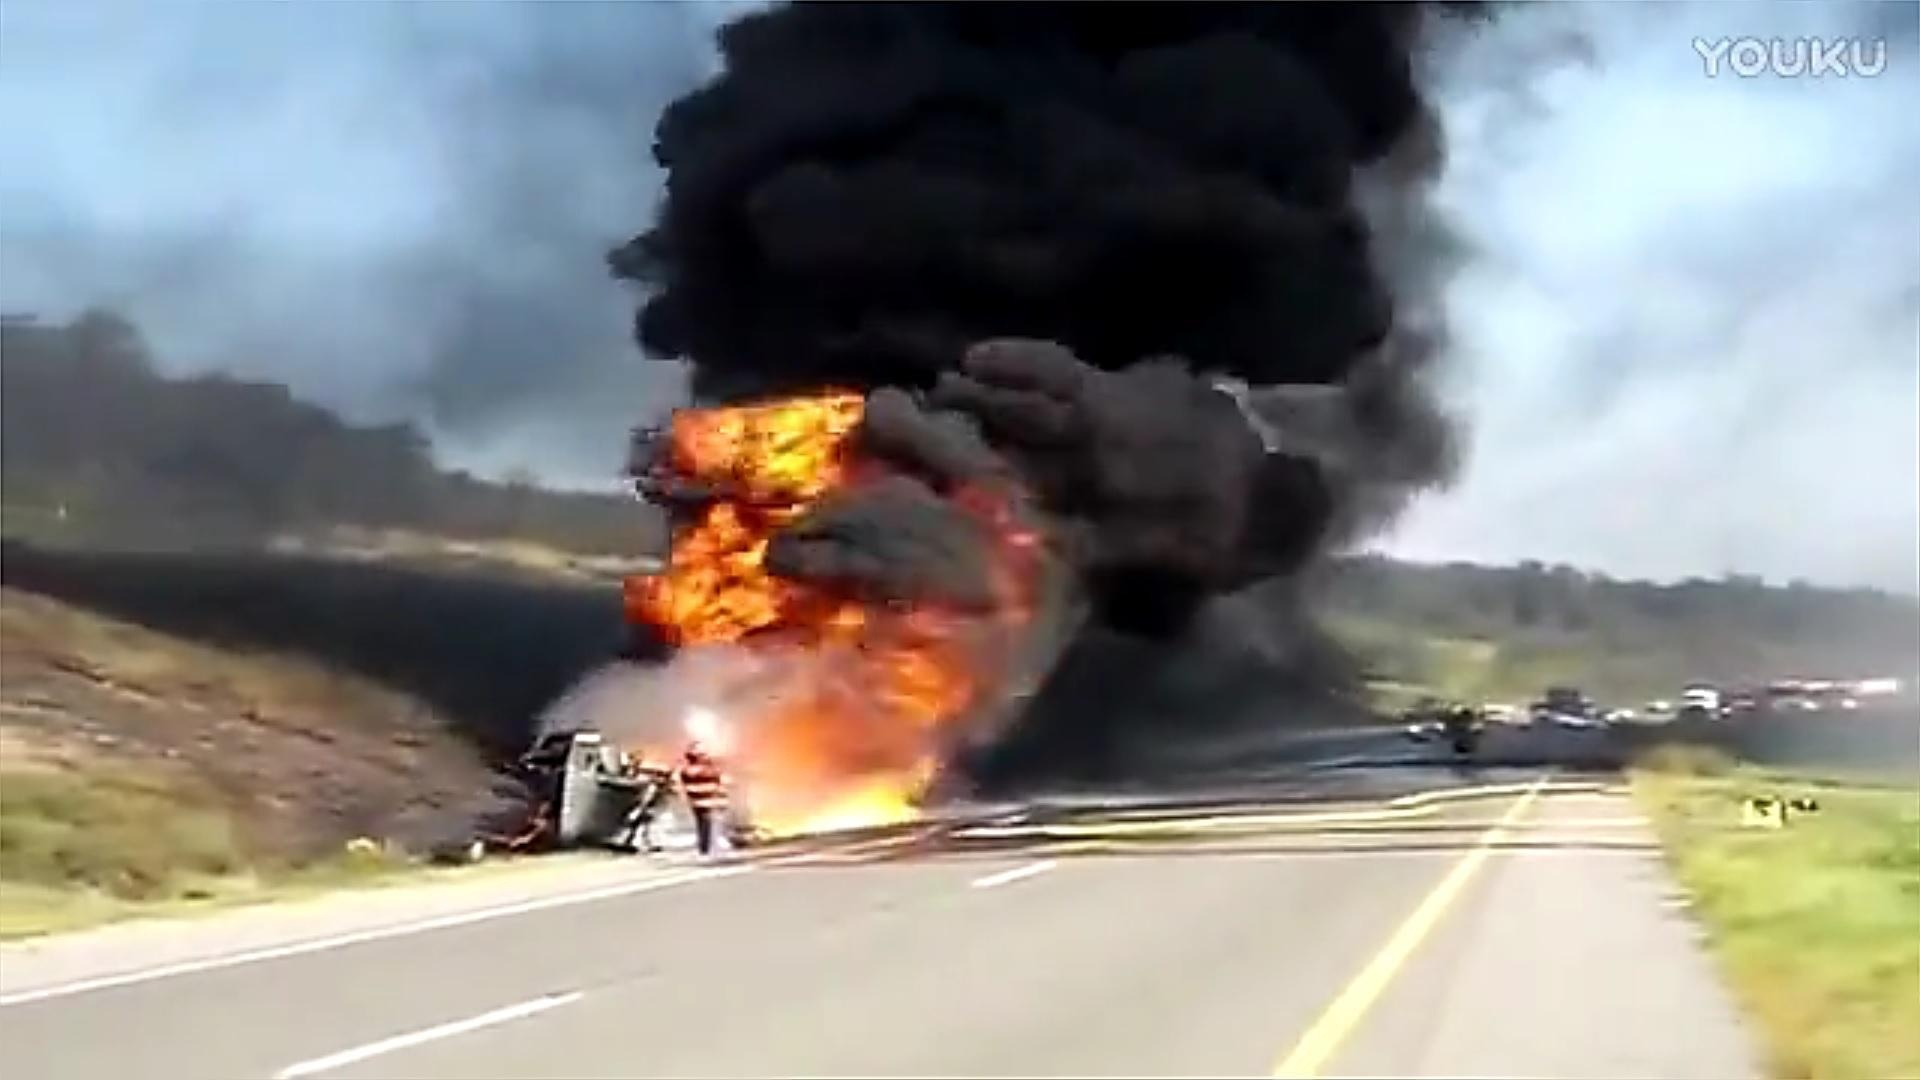fire: (638, 389, 1034, 829), (640, 386, 858, 637)
